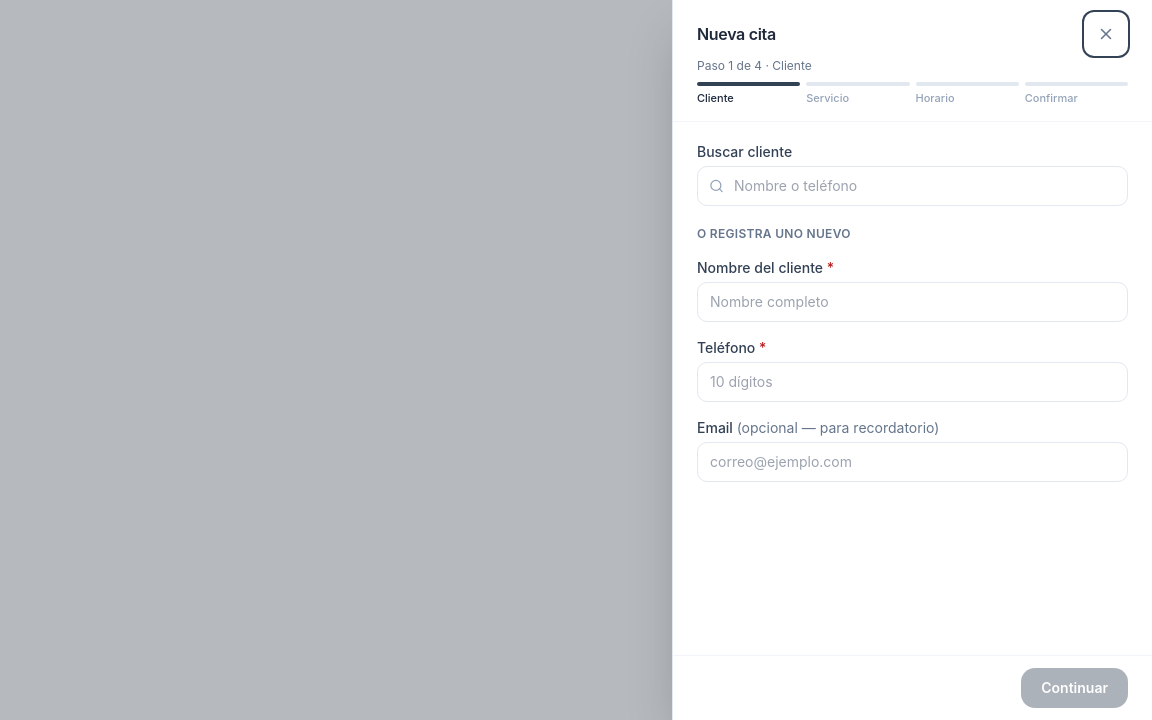
Scenario: NuevaCitaPanel — pasos (I4) › un correo mal escrito no deja avanzar
Type "Luis" into the field labelled "Nombre del cliente *" at (912, 302), box [697,282,1128,322]
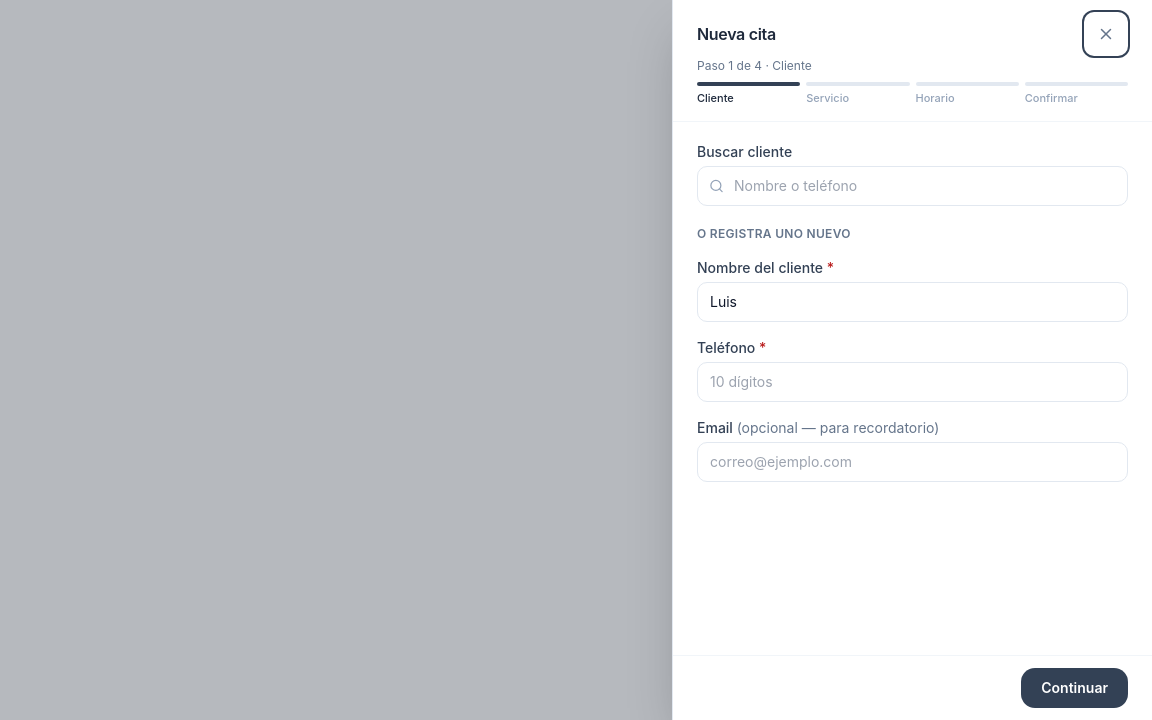
Type "5512345678" into the field labelled "Teléfono *" at (912, 382), box [697,362,1128,402]
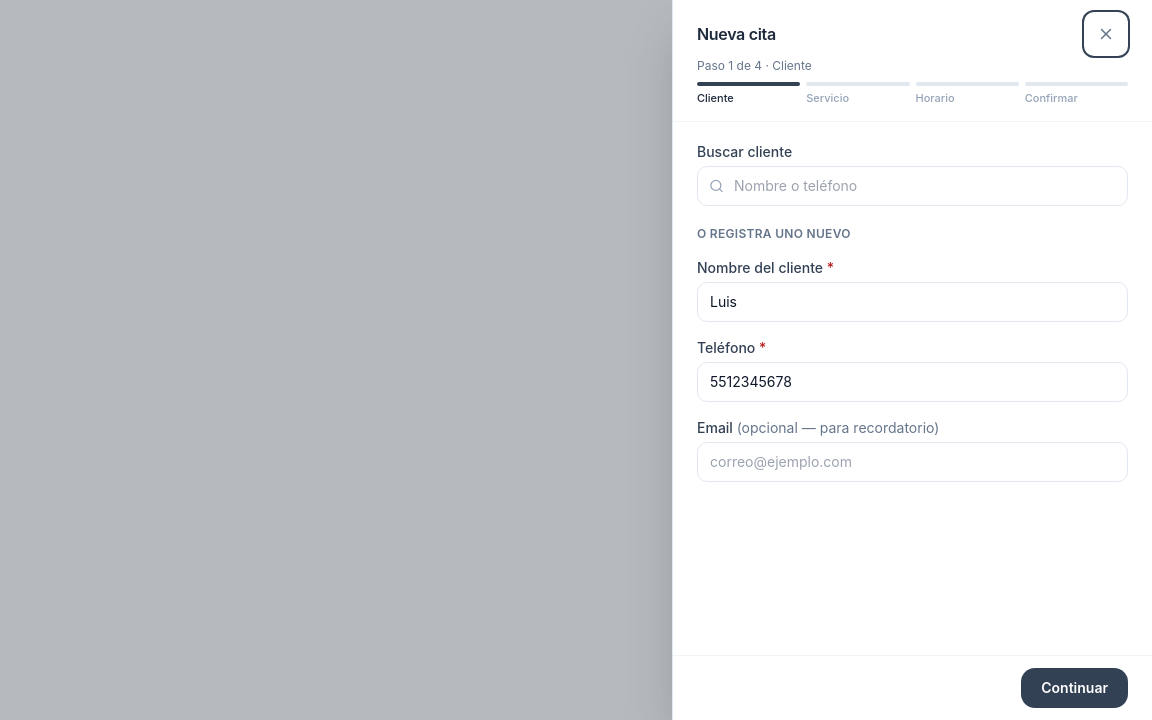
Type "luis@" into the field labelled "Email (opcional — para recordatorio)" at (912, 462), box [697,442,1128,482]
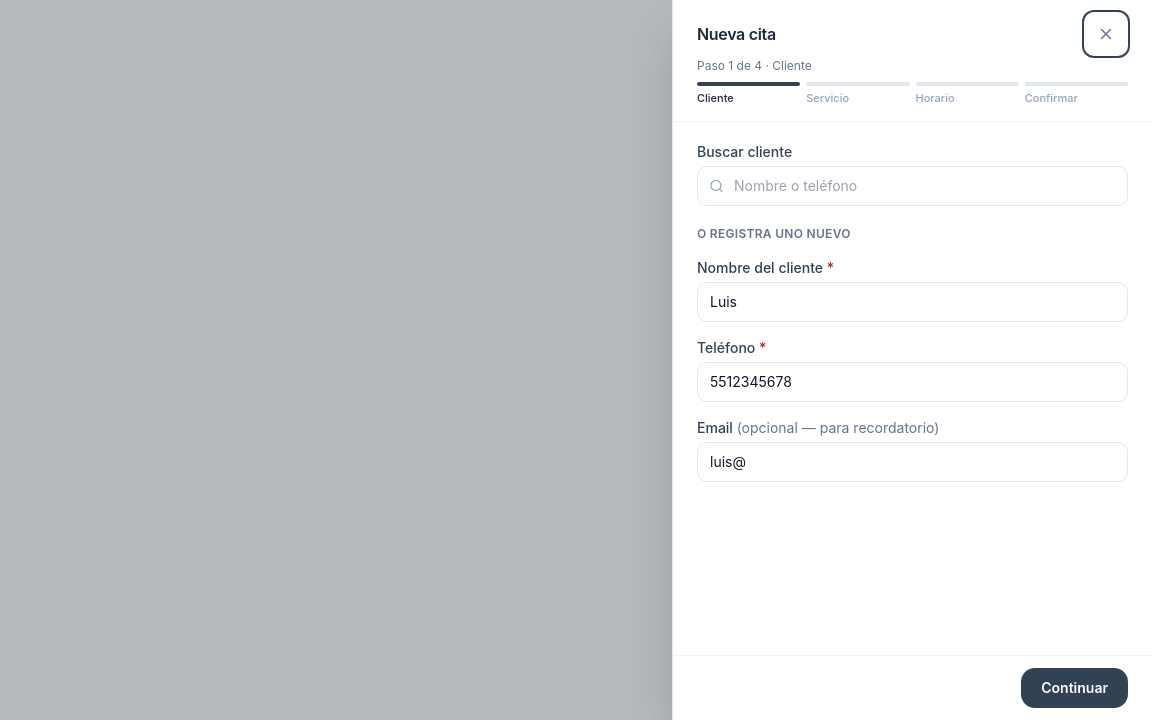
Click the button "Continuar" at (1075, 688), box [1021,668,1128,708]
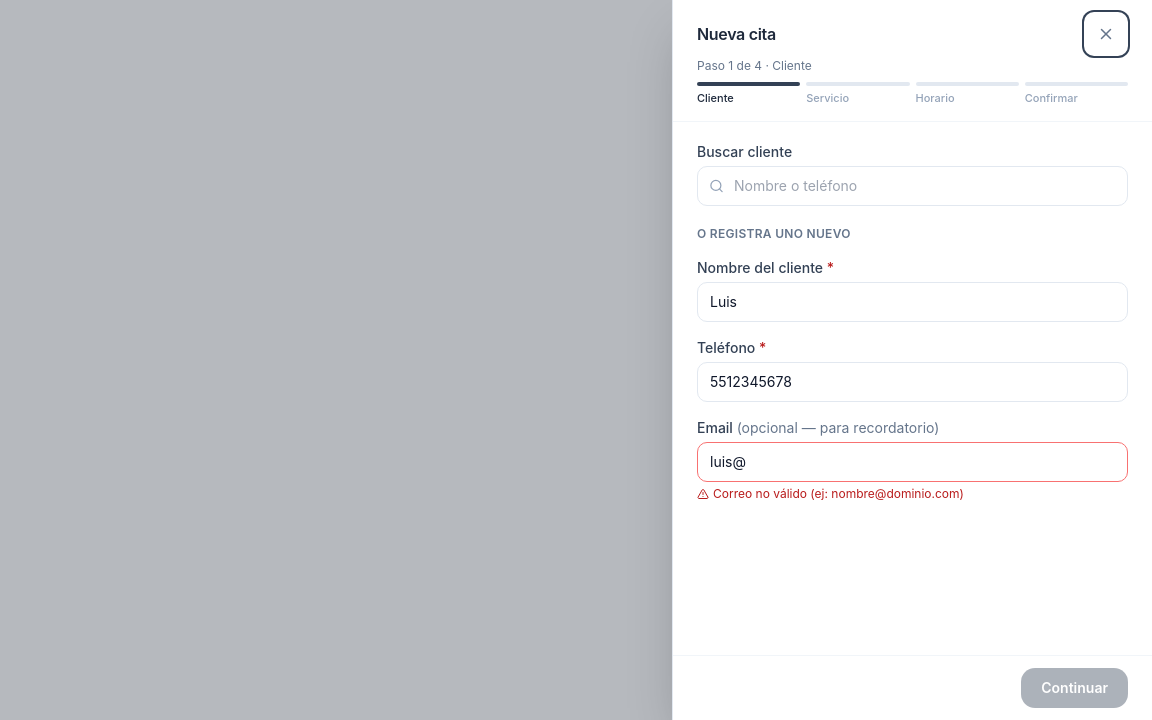
Check: the text "Paso 1 de 4 · Cliente" is shown, box [697,58,812,73]
Check: the text "Correo no válido (ej: nombre@dominio.com)" is shown, box [697,486,964,501]
